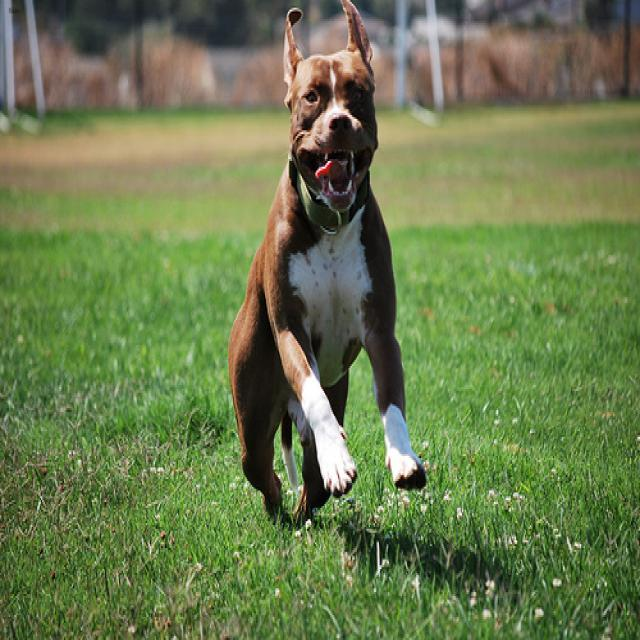dog-american_pit_bull_terrier: (221, 2, 434, 538)
